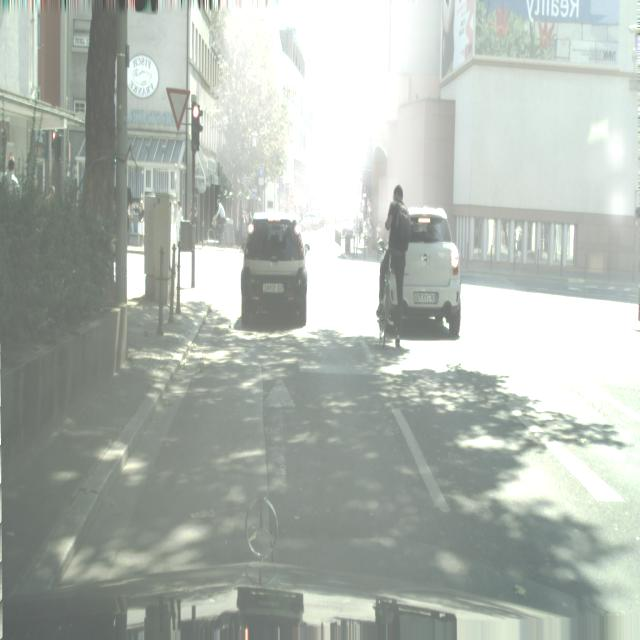car: (377, 184, 412, 348), (207, 198, 230, 244)
person: (0, 156, 21, 201)
truck: (240, 212, 309, 328), (402, 206, 462, 339)
